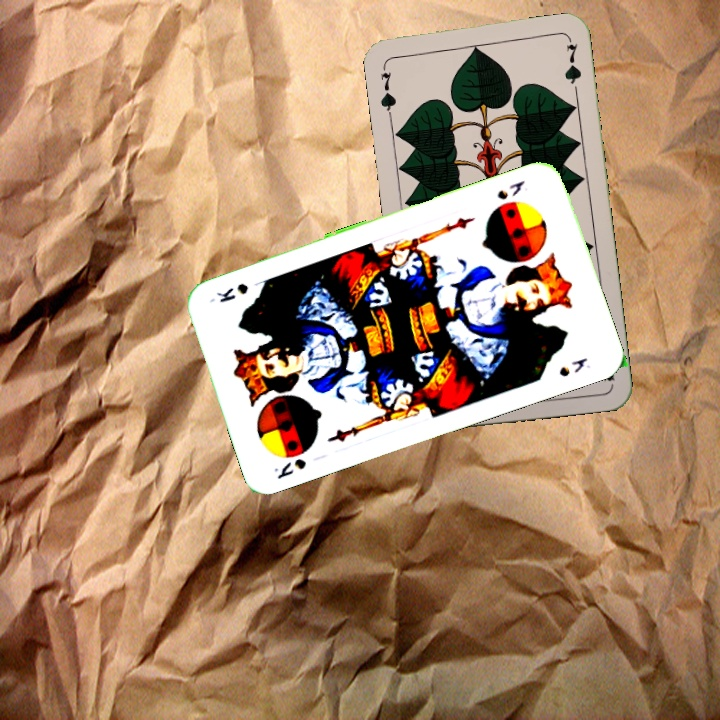G7: (376, 60, 399, 119)
SK: (269, 454, 309, 482), (493, 176, 528, 202)
